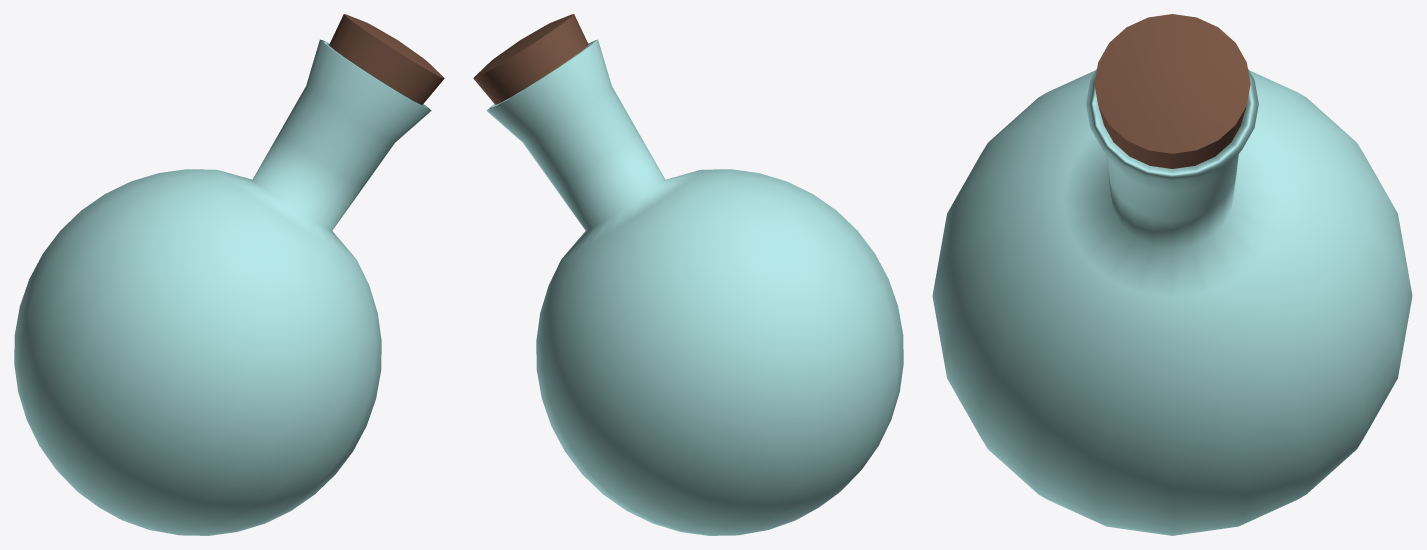
The model's file is 3d_Healing_Bottle.fbx.
The picture shows the model from 3 angles, left to right: view 1: azimuth 30°, elevation 25°; view 2: azimuth 150°, elevation 25°; view 3: azimuth 270°, elevation 25°; orthographic projection. The views are drawn at different scales.
Parts seen in each view (by area): view 1: Bottle, Cork; view 2: Bottle, Cork; view 3: Bottle, Cork.
Boxes of the visible parts, x1,y1,x2,y2 form: Bottle: [14, 39, 431, 535]; Cork: [329, 14, 444, 104]; Bottle: [486, 39, 903, 535]; Cork: [473, 14, 588, 104]; Bottle: [932, 69, 1412, 535]; Cork: [1094, 14, 1250, 168].
Bounding box in the file's own units: 0.9098 × 1.01 × 0.7321.
